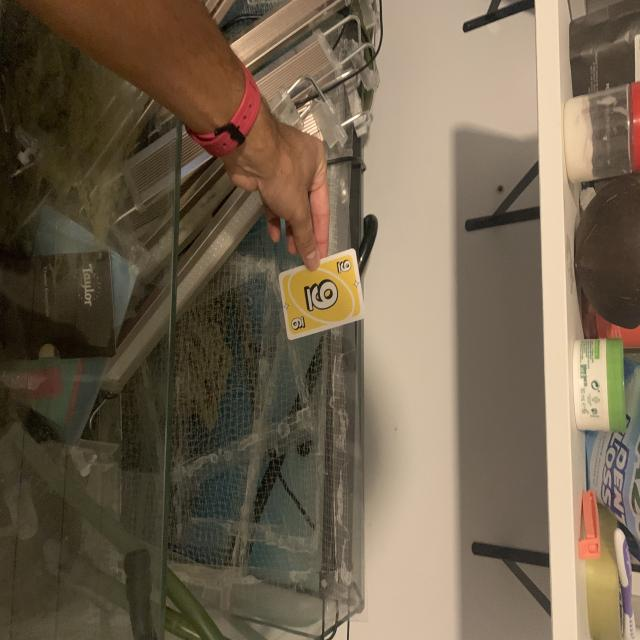lyellow-9: (329, 255, 354, 279)
